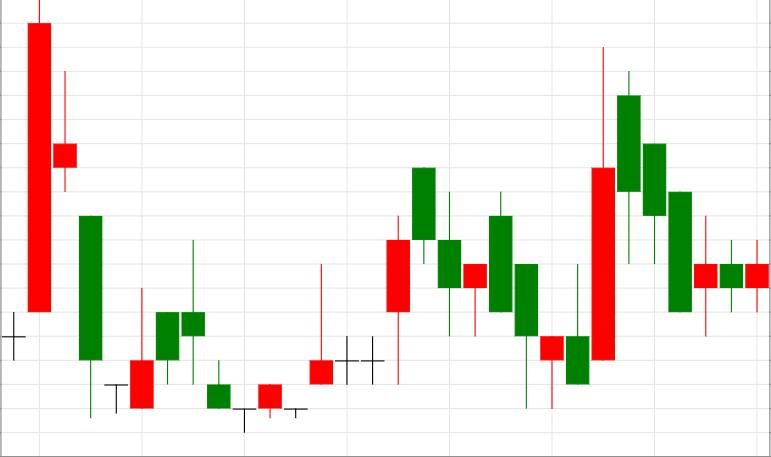hammer_rise: (413, 168, 564, 410)
